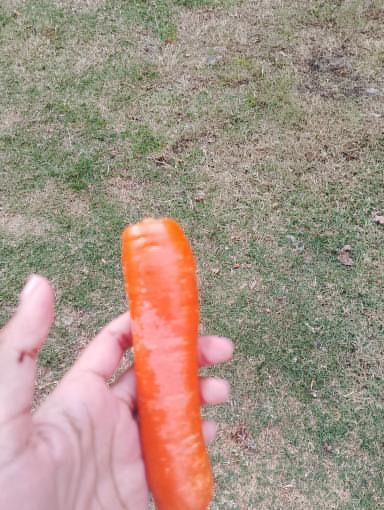carrot: (108, 216, 231, 509)
